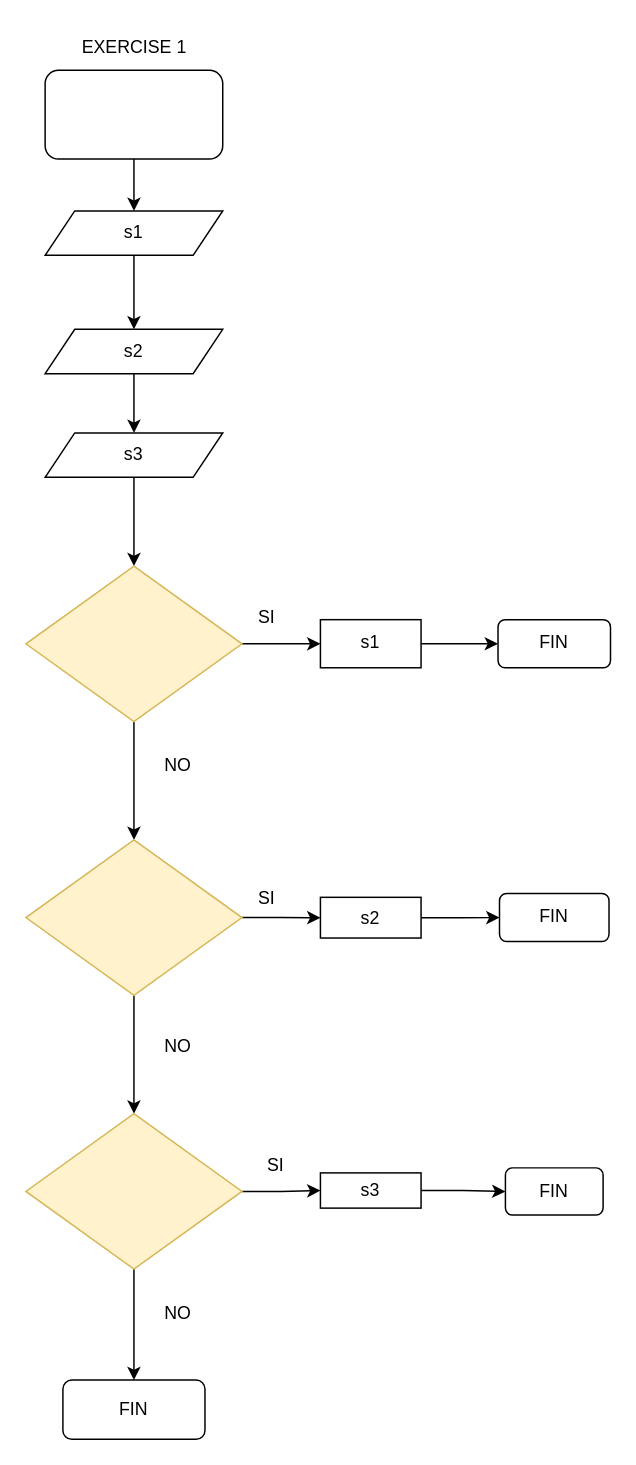
Some shapes in this 636 by 1465 pixel diagram are drawn without their labels. The shapes that lost their labels are listed below. From the top down, each one's centre as x and y in pixels, then its label:
point (133, 114): INICIO
point (133, 643): s1 menor que s2 y s3?
point (133, 916): s2 menor que s1 y s3?
point (133, 1190): s3 menor que s1 y s2?
